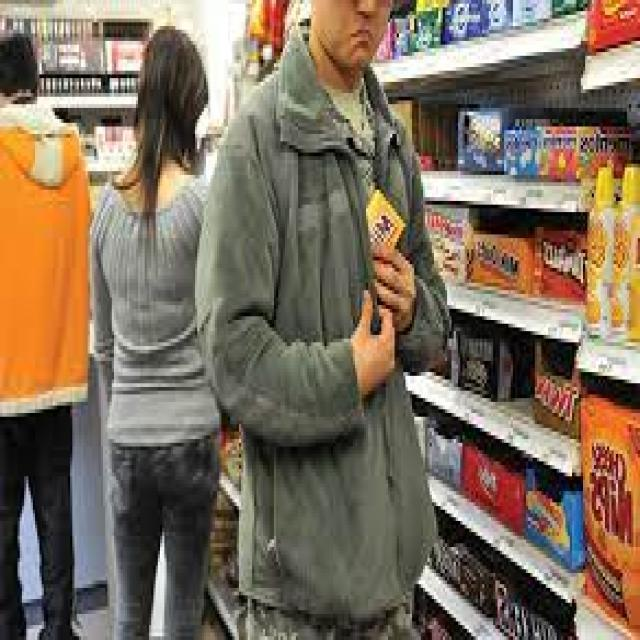Shoplifting: (193, 0, 465, 632)
